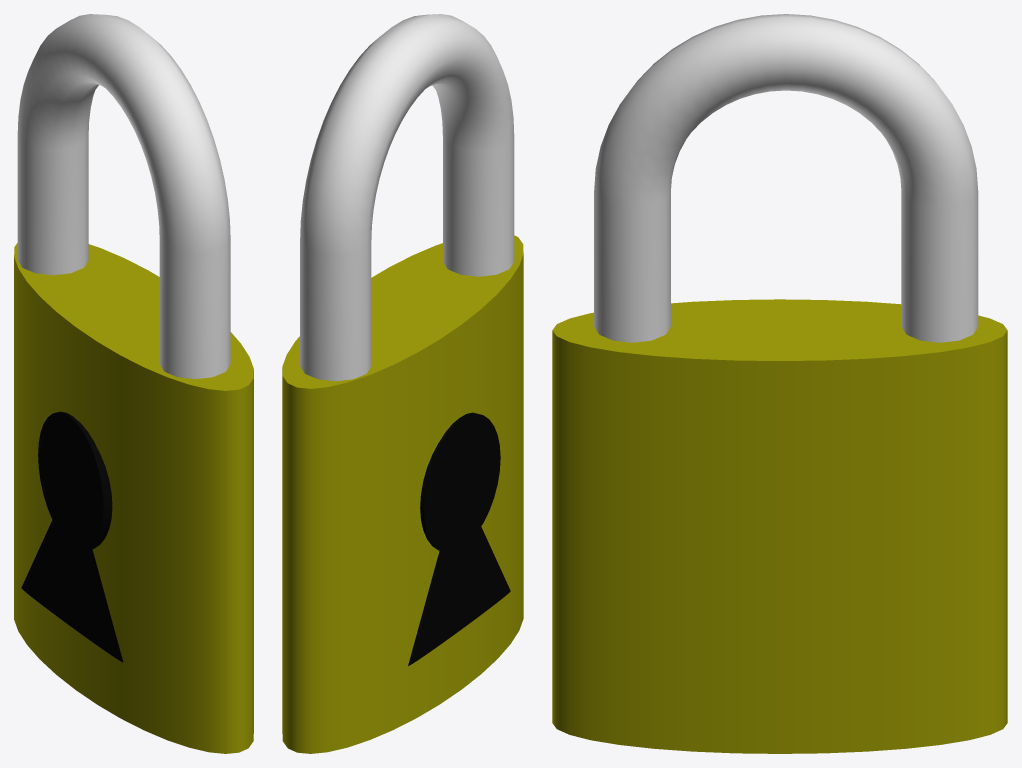
File: mypadlock.fbx
3 views of the same model, side by side, from view 1: azimuth 30°, elevation 25°; view 2: azimuth 150°, elevation 25°; view 3: azimuth 270°, elevation 25° (orthographic). The views are drawn at different scales.
Parts seen in each view (by area): view 1: Cylinder, Torus.001, Cone; view 2: Cylinder, Torus.001, Cone; view 3: Cylinder, Torus.001.
Part boxes in pixels (left/top/right/bottom): Cylinder: left=14, top=243, right=253, bottom=753; Torus.001: left=17, top=14, right=230, bottom=379; Cone: left=21, top=411, right=123, bottom=662; Cylinder: left=282, top=235, right=523, bottom=753; Torus.001: left=300, top=14, right=514, bottom=381; Cone: left=408, top=412, right=510, bottom=665; Cylinder: left=552, top=299, right=1007, bottom=753; Torus.001: left=594, top=14, right=978, bottom=342.
Bounding box in the file's own units: 99.3 × 504 × 296.
